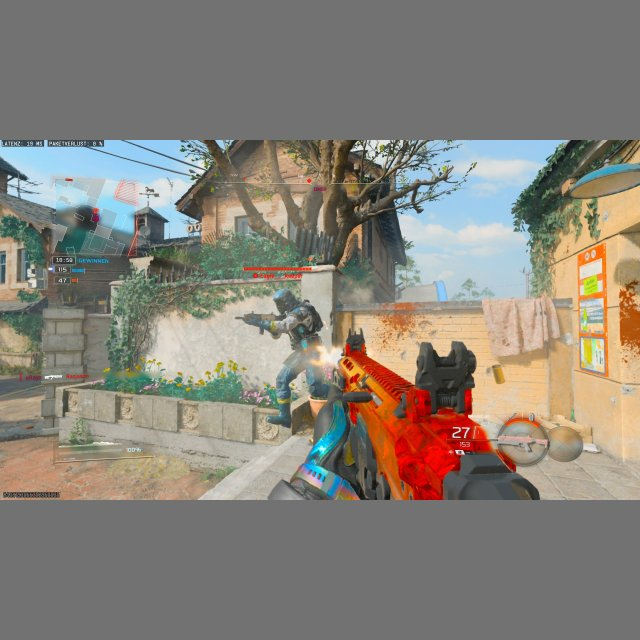head: (273, 287, 296, 312)
player: (244, 287, 323, 428)
